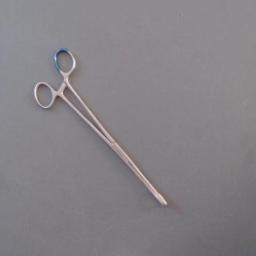Sponge Forceps: (30, 43, 174, 217)
